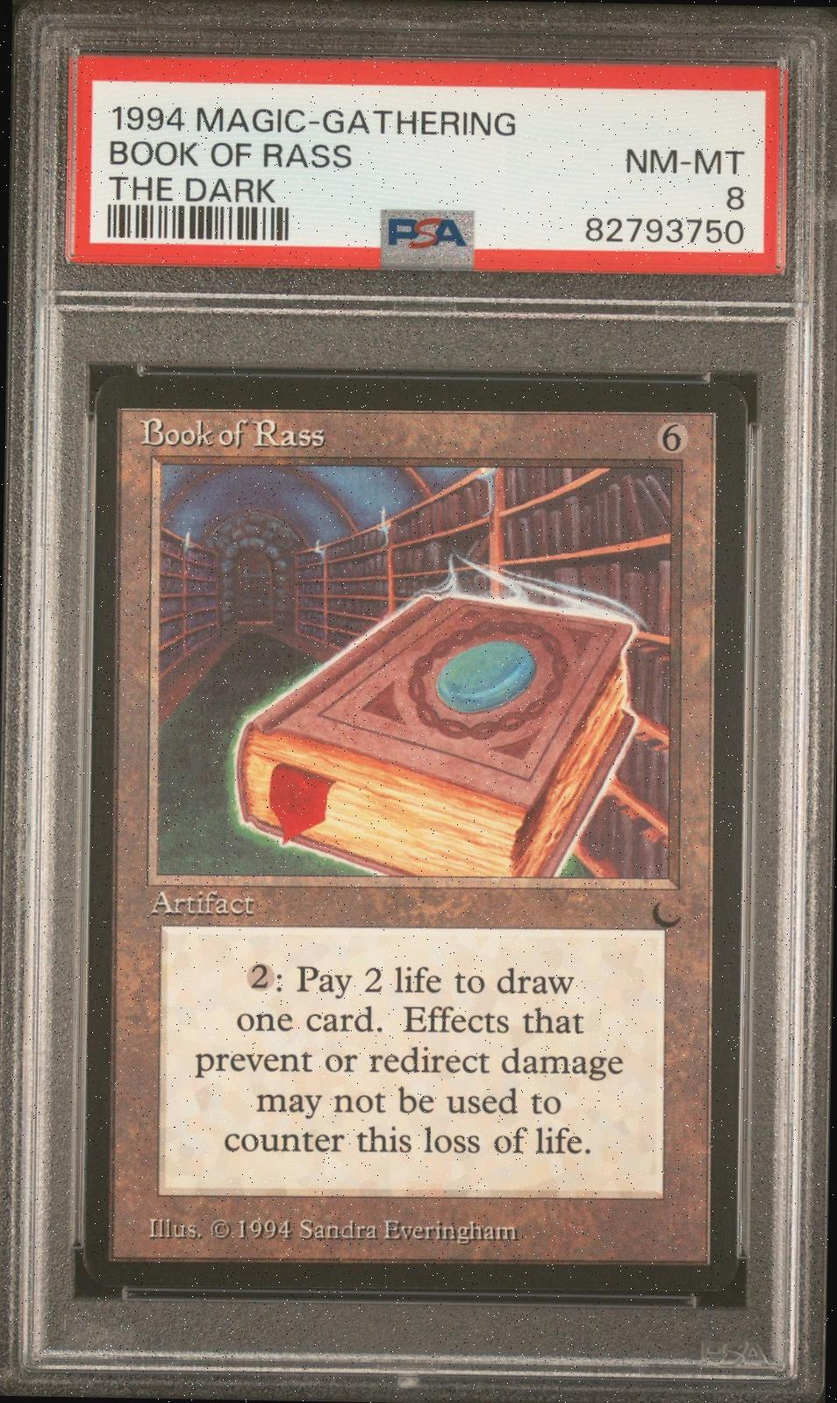card-2UtV: (82, 375, 748, 1291)
